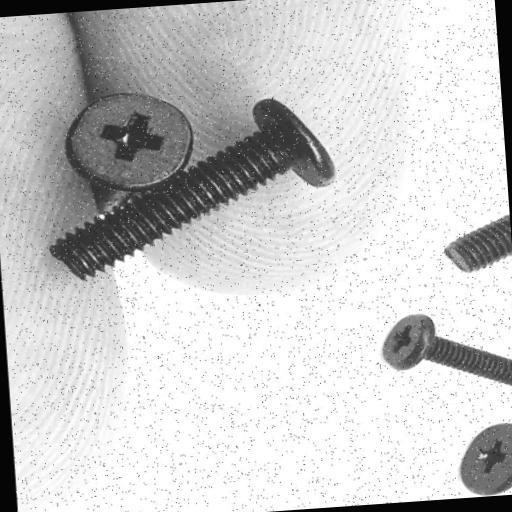Phillips: (64, 88, 195, 195), (366, 304, 439, 378), (453, 419, 512, 498)
